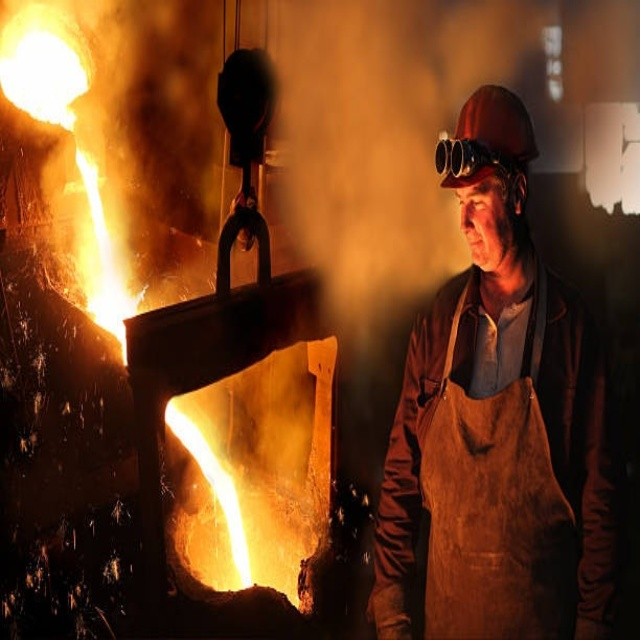Sin_gafas: (453, 185, 503, 218)
Sin_mascara: (461, 226, 493, 267)
